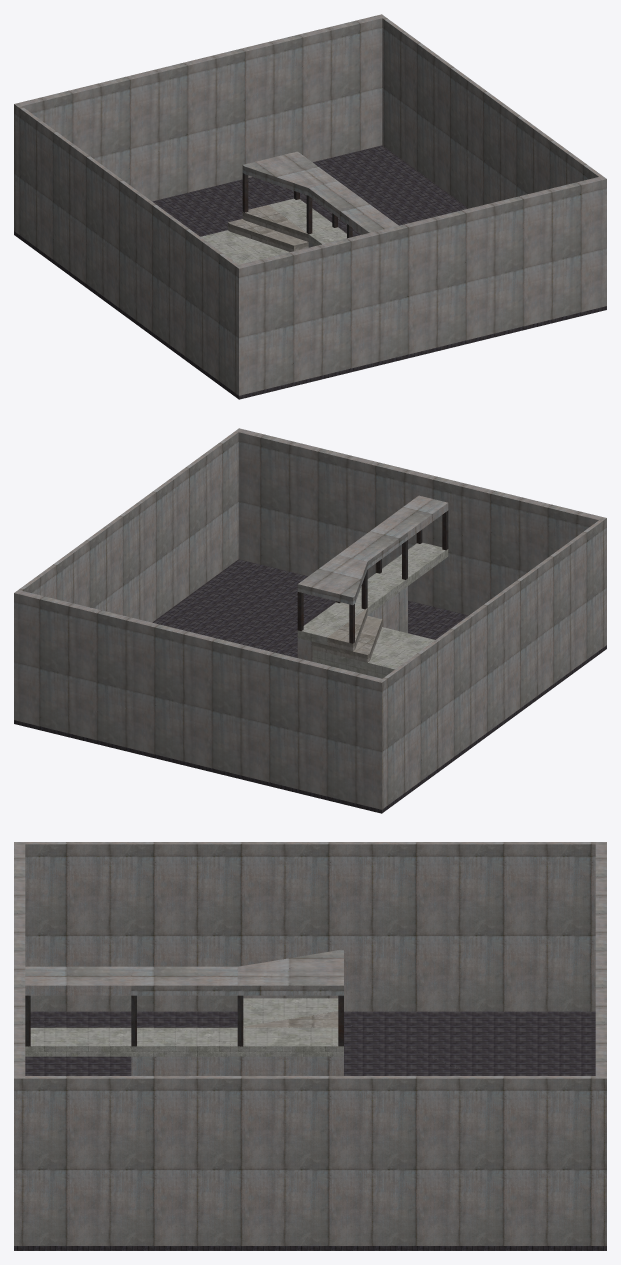
3 views of the same model, one above another, from view 1: azimuth 30°, elevation 25°; view 2: azimuth 150°, elevation 25°; view 3: azimuth 270°, elevation 25° (orthographic). The views are drawn at different scales.
Parts seen in each view (by area): view 1: entity0_brush20, entity0_brush25, entity0_brush26, entity0_brush27, entity0_brush19, entity0_brush17, entity0_brush10, entity0_brush12, entity0_brush16, entity0_brush11, entity0_brush15, entity0_brush14 (+4 smaller); view 2: entity0_brush25, entity0_brush20, entity0_brush26, entity0_brush27, entity0_brush18, entity0_brush12, entity0_brush10, entity0_brush16, entity0_brush22, entity0_brush17, entity0_brush21, entity0_brush14 (+8 smaller); view 3: entity0_brush27, entity0_brush26, entity0_brush17, entity0_brush16, entity0_brush20, entity0_brush25, entity0_brush10, entity0_brush22, entity0_brush21, entity0_brush14, entity0_brush13, entity0_brush28 (+8 smaller).
Boxes of the visible parts, x1,y1,x2,y2 form: entity0_brush20: (235, 176, 606, 395); entity0_brush25: (14, 14, 385, 233); entity0_brush26: (18, 106, 238, 392); entity0_brush27: (382, 17, 602, 208); entity0_brush19: (202, 145, 468, 236); entity0_brush17: (14, 189, 242, 316); entity0_brush10: (242, 151, 337, 195); entity0_brush12: (200, 230, 289, 264); entity0_brush16: (126, 314, 422, 399); entity0_brush11: (228, 219, 308, 251); entity0_brush15: (242, 205, 308, 241); entity0_brush14: (268, 198, 333, 233); entity0_brush25: (14, 590, 385, 809); entity0_brush20: (235, 428, 606, 647); entity0_brush26: (382, 520, 602, 806); entity0_brush27: (18, 431, 238, 622); entity0_brush18: (152, 559, 418, 657); entity0_brush12: (312, 627, 434, 678); entity0_brush10: (297, 554, 367, 605); entity0_brush16: (408, 603, 606, 730); entity0_brush22: (379, 495, 448, 539); entity0_brush17: (198, 728, 494, 813); entity0_brush21: (382, 542, 448, 585); entity0_brush14: (297, 602, 364, 644); entity0_brush27: (25, 1076, 595, 1245); entity0_brush26: (25, 842, 595, 1011); entity0_brush17: (344, 1011, 595, 1075); entity0_brush16: (25, 1011, 237, 1075); entity0_brush20: (14, 842, 25, 1245); entity0_brush25: (595, 842, 606, 1245); entity0_brush10: (237, 950, 343, 995); entity0_brush22: (25, 966, 131, 995); entity0_brush21: (25, 1027, 131, 1056); entity0_brush14: (237, 1027, 343, 1056); entity0_brush13: (131, 1056, 237, 1075); entity0_brush28: (237, 1056, 343, 1075).
Size of the model in its own units: 1600 by 544 by 1696.
Materials: 5 (5 with a texture image).
